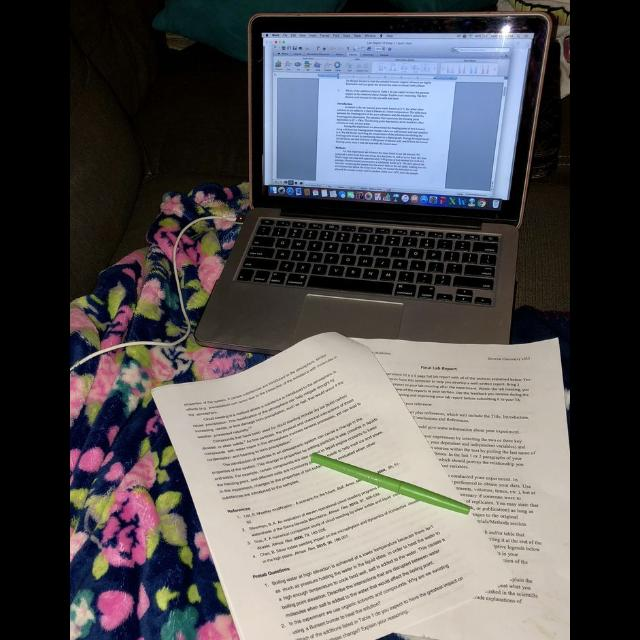laptop: (197, 12, 551, 352)
